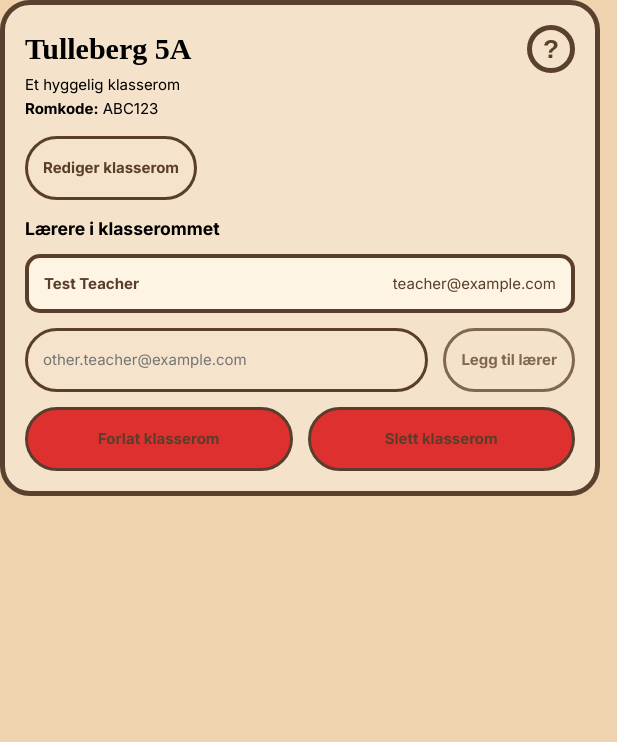
Scenario: TeachersEditClassroom › opens edit form with existing classroom values
Click the button with class "edit-classroom-btn". click: (111, 168)
box: 25,136 -> 197,200
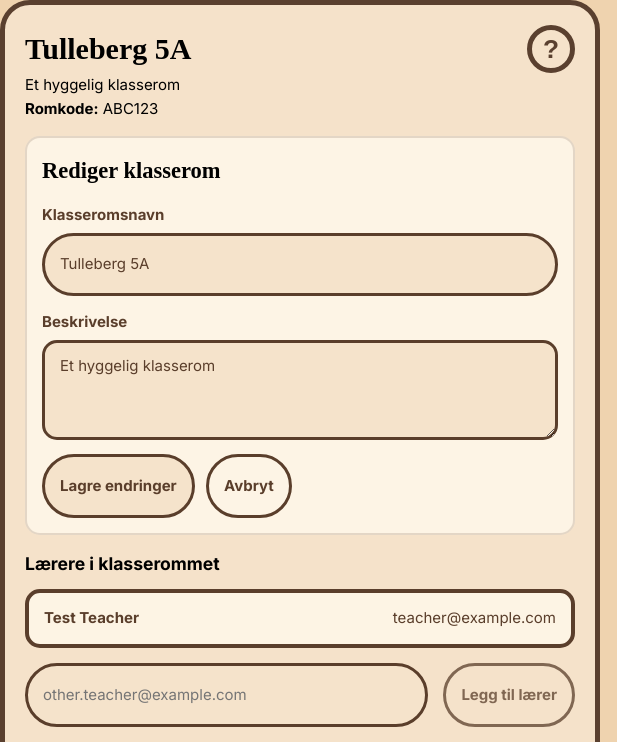
Expected: the field with class "teacher-input" holds "Tulleberg 5A", 42,232 -> 558,296
Expected: the text box with class "teacher-textarea" holds "Et hyggelig klasserom", 42,340 -> 558,440
